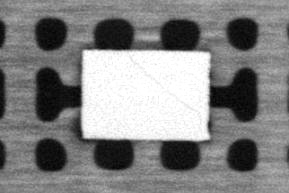DIE_CRACK: (128, 55, 203, 115)
